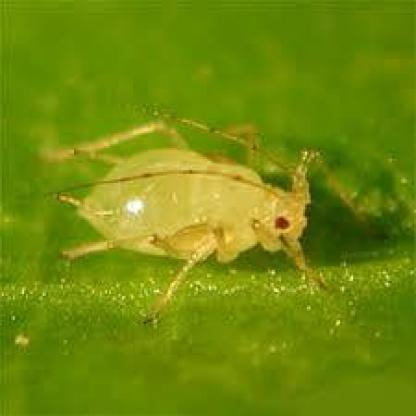aphid: (32, 109, 340, 298)
